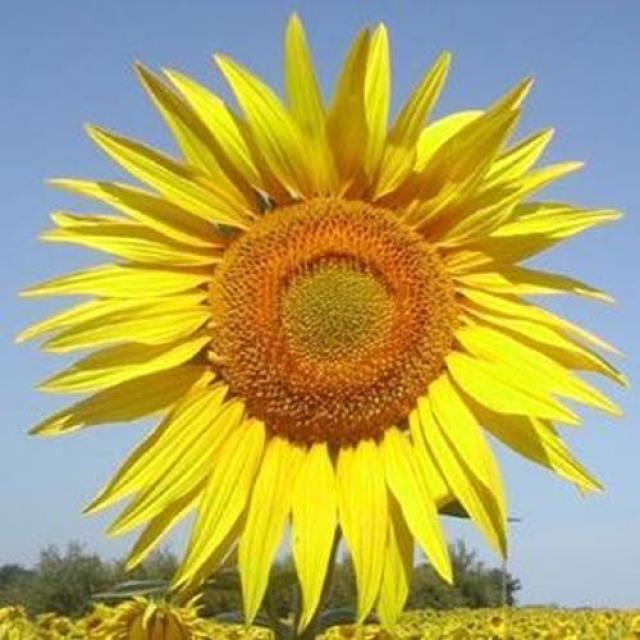sunflower: (32, 8, 618, 622)
